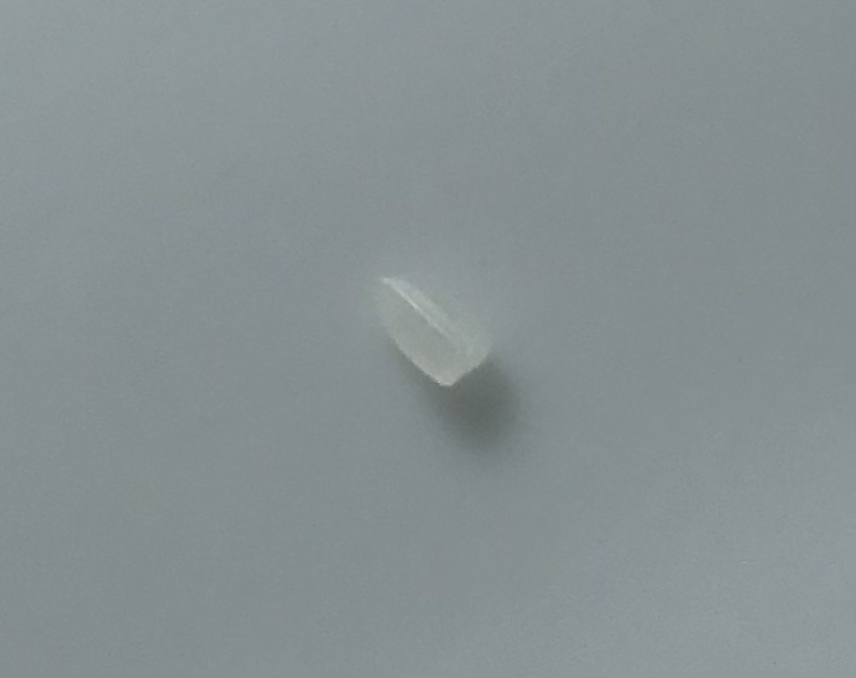Gao Tam: (369, 257, 488, 394)
